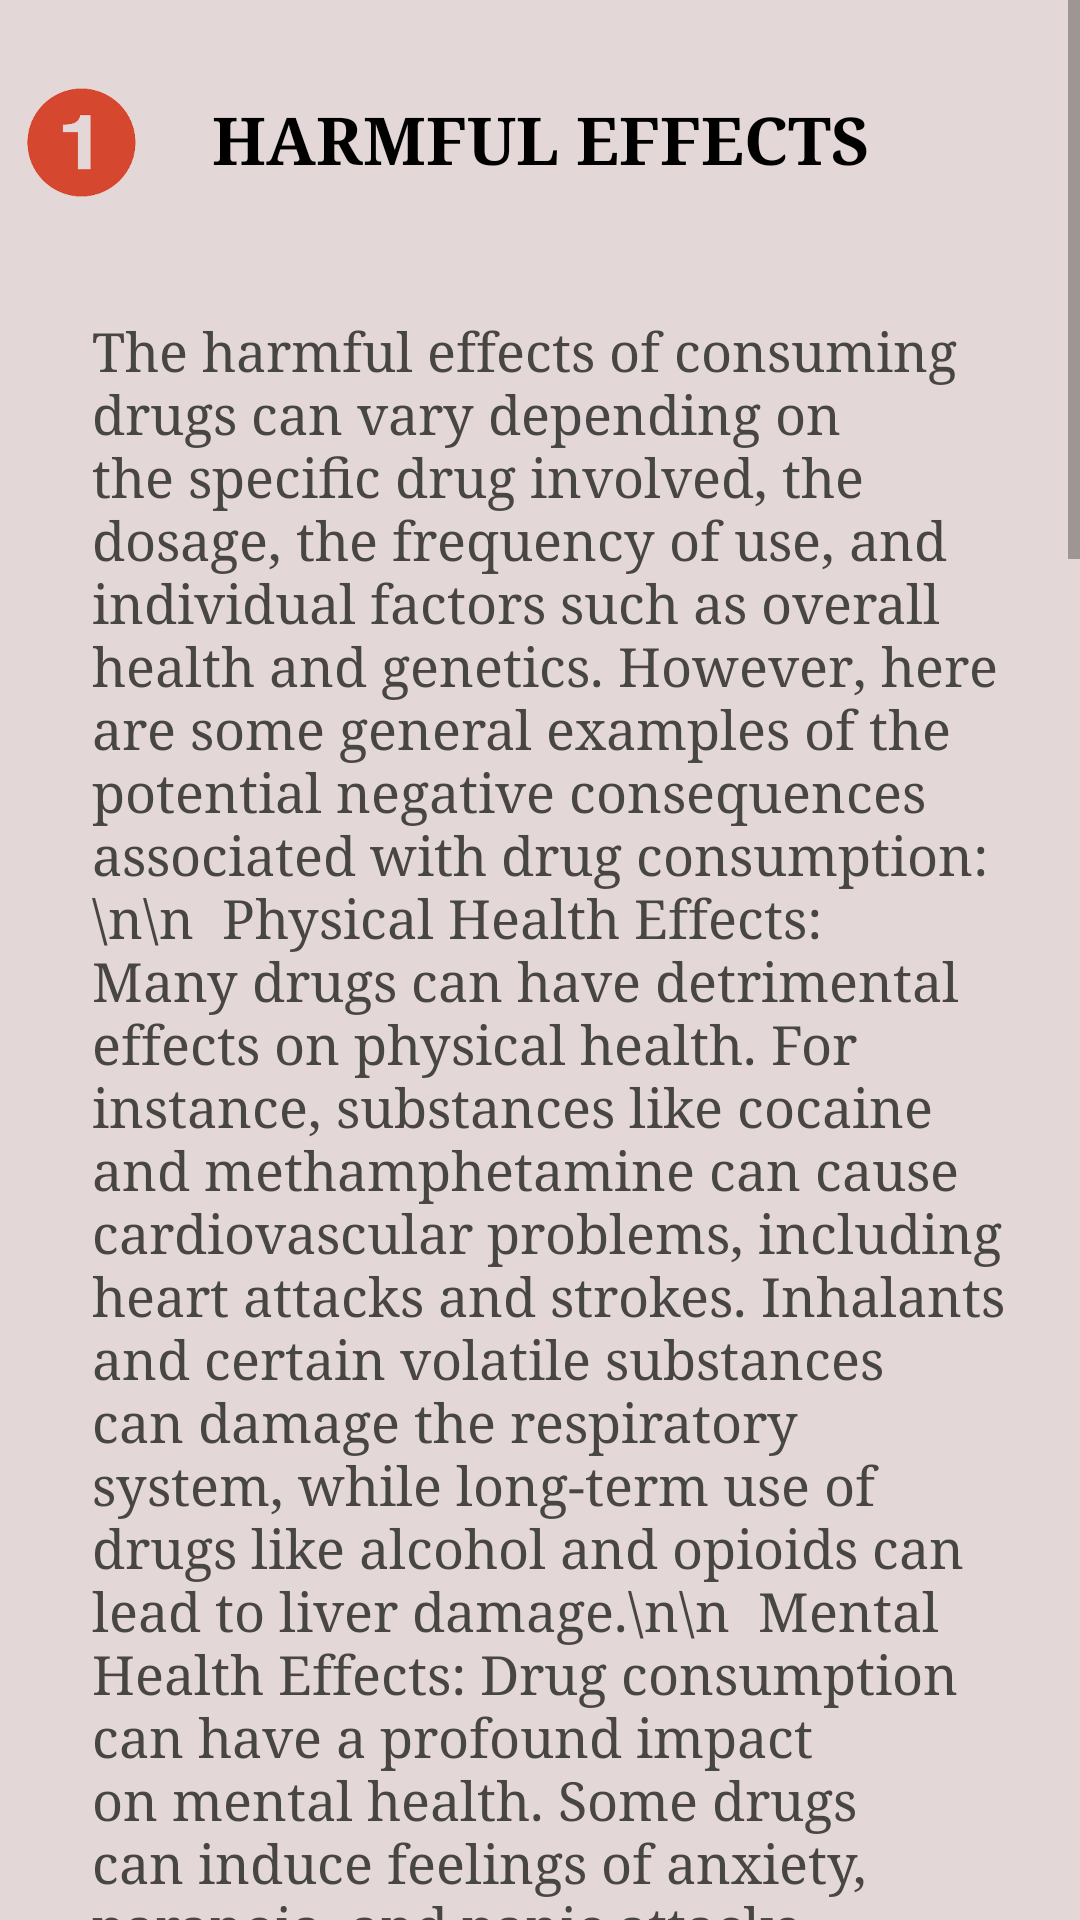

Screen size 1080×1920. Icon name, then its center in pixels as (x=x, y=y):
numberonenew: (x=81, y=142)
